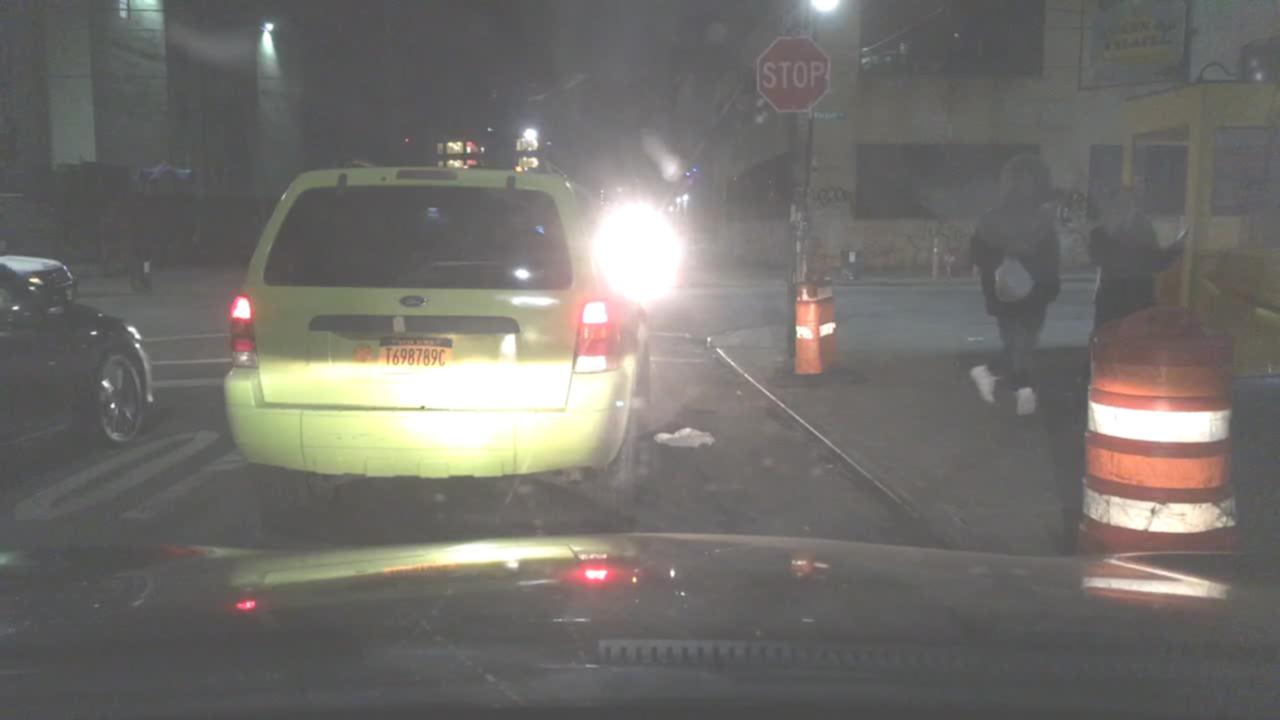ford: (396, 292, 431, 311)
